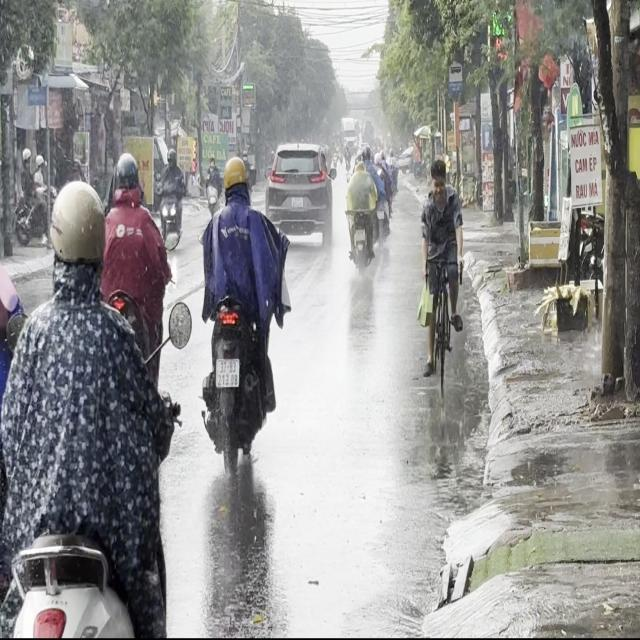helmet: (48, 178, 106, 280), (112, 151, 140, 202), (221, 154, 249, 200)
licenseplate: (0, 154, 182, 634), (196, 150, 284, 479)
nohelmet: (216, 358, 238, 386)
